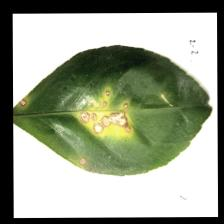canker: (20, 86, 134, 137)
